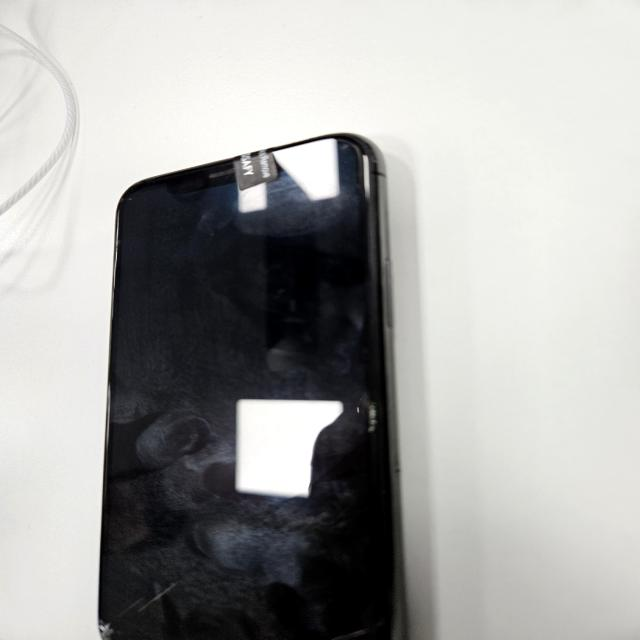phone: (95, 132, 414, 638), (234, 149, 278, 191)
